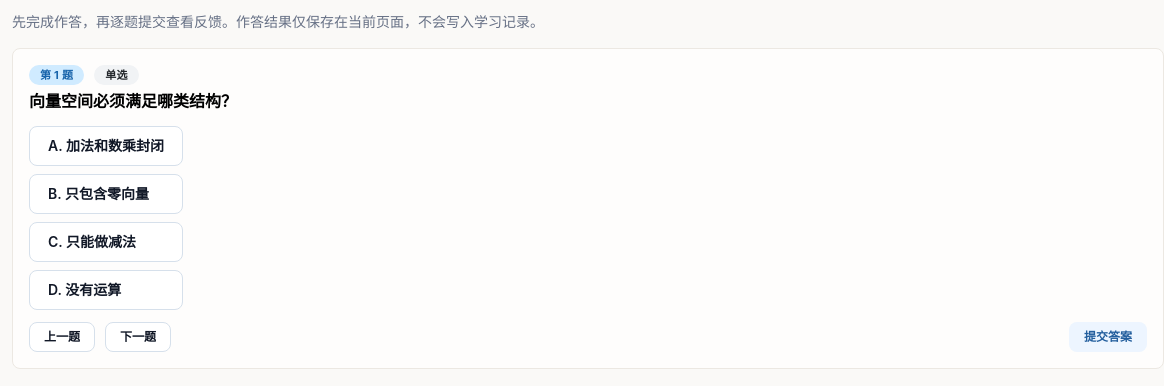
Test: TaskTestResult › reveals reference answer for short answer without auto-grading
The width and height of the screenshot is (1164, 386).
Click the button "下一题" at x=138, y=337, box [105,322,171,352]
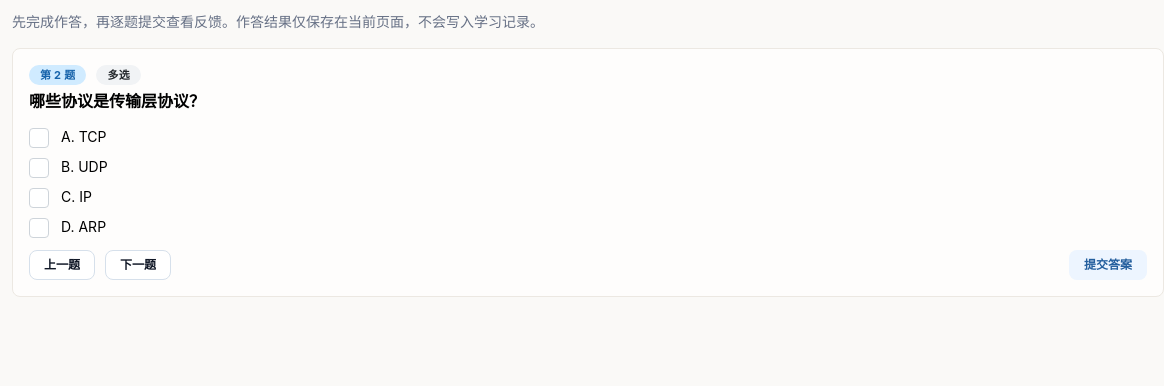
Click the button "下一题" at x=138, y=265, box [105,250,171,280]
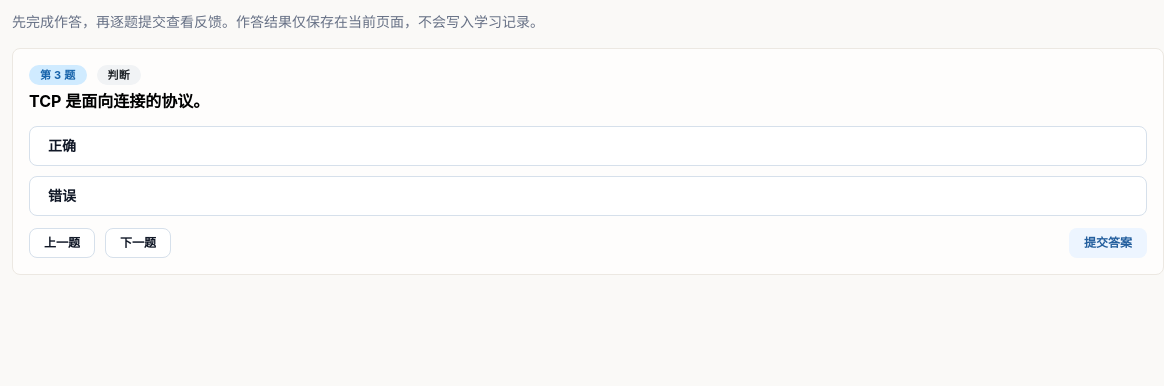
Click the button "下一题" at x=138, y=243, box [105,228,171,258]
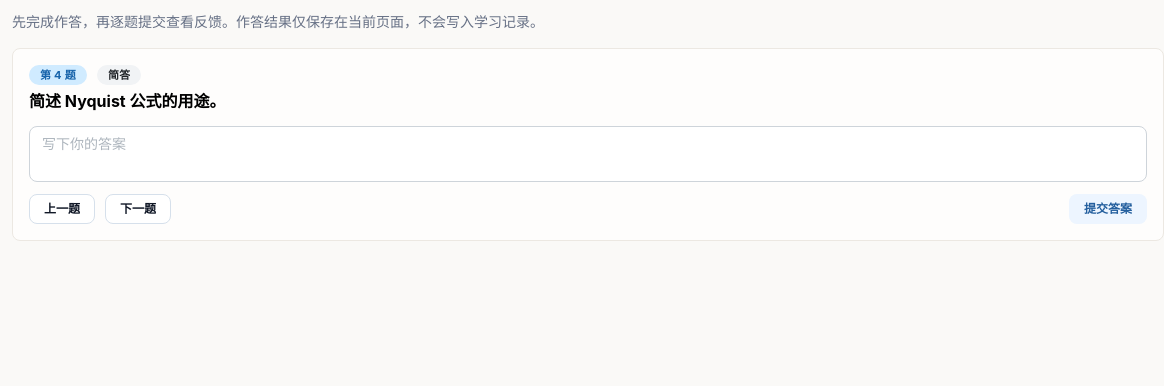
Type "估算信道最大传输能力" into the text box named "填写简答题答案" at x=588, y=154, box [29,126,1147,182]
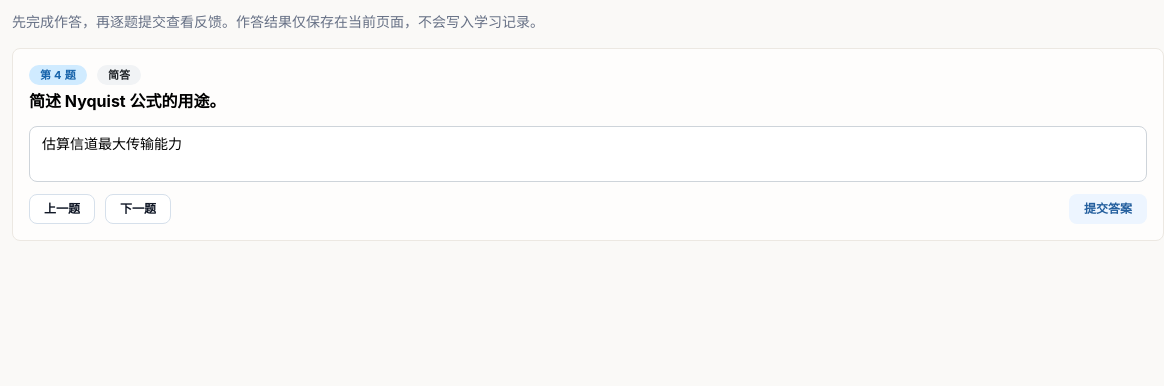
Click the button "提交答案" at x=1108, y=210, box [1069,194,1147,224]
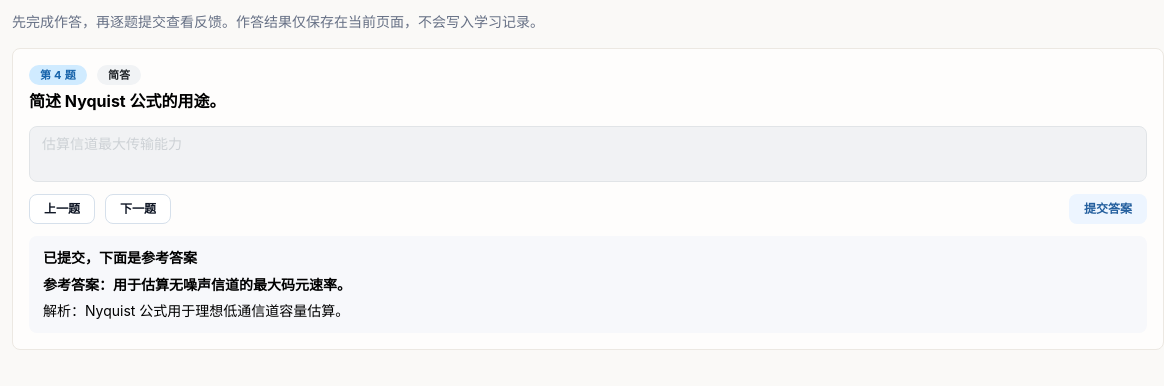
Expected: the text "已提交，下面是参考答案" is shown, [43,250,197,266]
Expected: the text "参考答案：用于估算无噪声信道的最大码元速率。" is shown, [43,276,351,293]
